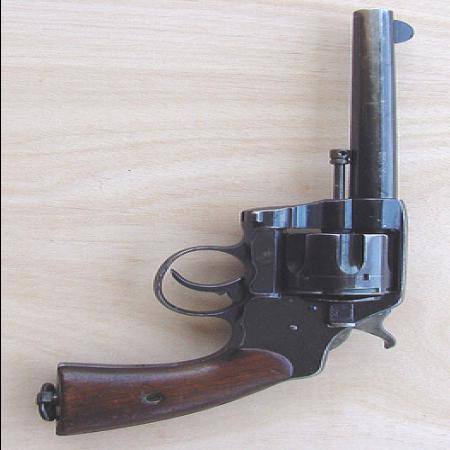Pistol: (55, 11, 419, 435)
